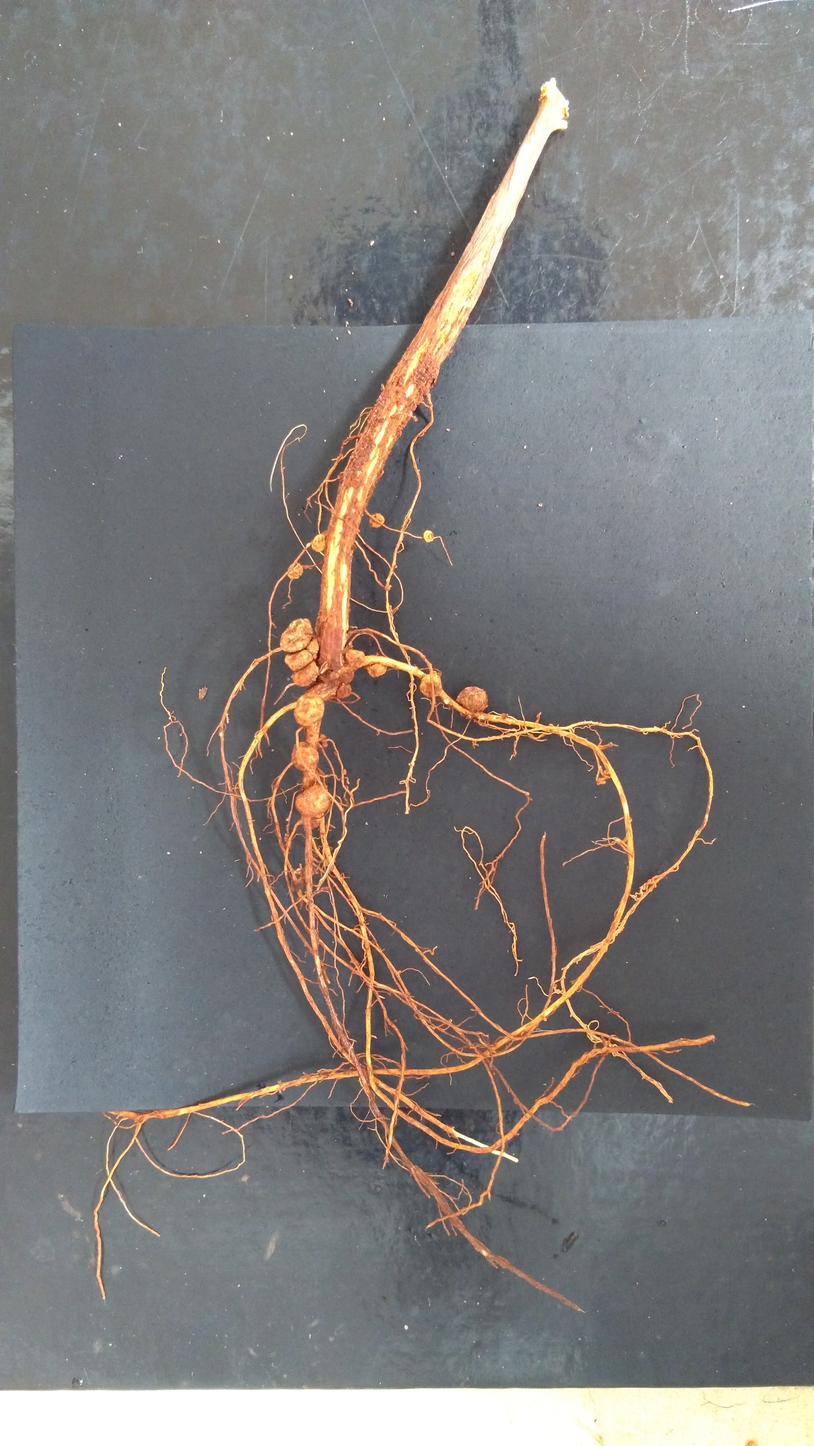nodule: (279, 618, 313, 653), (294, 784, 331, 816), (294, 693, 325, 727), (455, 686, 488, 712), (291, 742, 319, 772), (291, 658, 319, 687), (418, 670, 442, 698), (284, 649, 313, 672), (364, 654, 387, 678), (301, 810, 322, 831), (305, 634, 320, 661), (345, 648, 365, 668), (335, 681, 352, 699), (287, 562, 303, 580), (311, 534, 326, 553), (368, 513, 385, 529), (339, 670, 355, 687), (290, 877, 304, 893), (319, 733, 328, 749), (423, 530, 434, 543), (602, 769, 612, 780), (596, 777, 605, 787), (293, 868, 304, 876), (383, 583, 392, 591), (501, 712, 508, 720), (333, 749, 339, 757), (342, 768, 347, 776), (351, 544, 357, 550), (548, 722, 554, 727)
